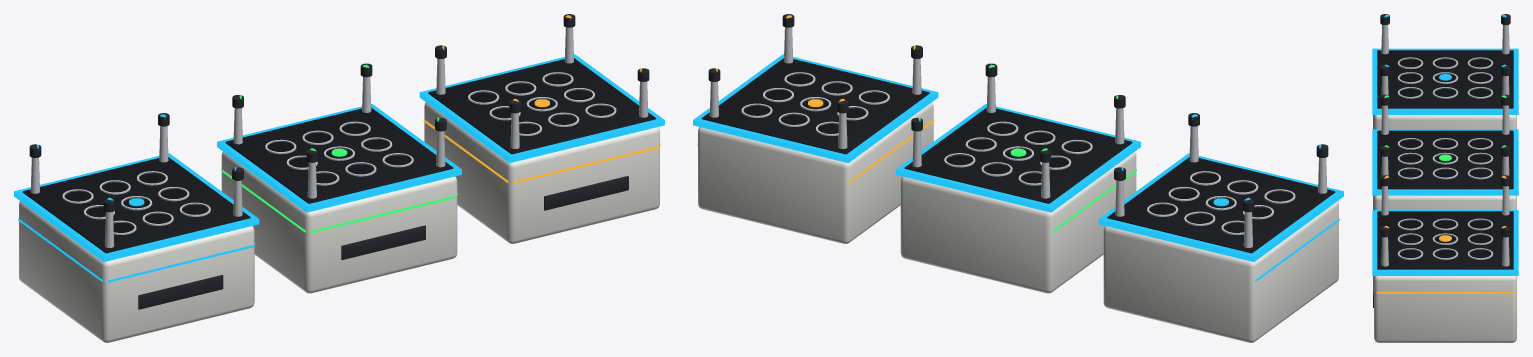
Rendered from three_blocks.glb.
The picture shows the model from 3 angles, left to right: view 1: azimuth 30°, elevation 25°; view 2: azimuth 150°, elevation 25°; view 3: azimuth 270°, elevation 25°; orthographic projection. The views are drawn at different scales.
Visible parts, largest first — view 1: blocksBody; view 2: blocksBody; view 3: blocksBody.
Boxes of the visible parts, <box> form: blocksBody: <box>14,14,664,342</box>; blocksBody: <box>693,14,1343,342</box>; blocksBody: <box>1372,14,1518,342</box>.
Size of the model in its own units: 3.32 by 0.7877 by 0.92.
